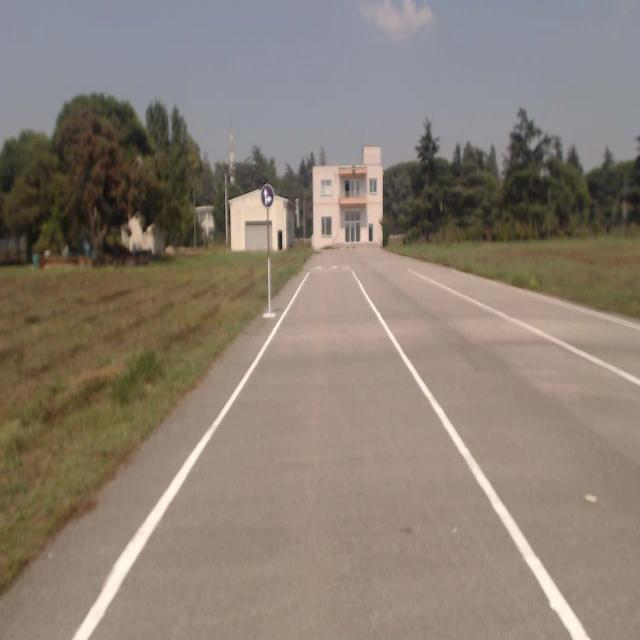ilerisag: (261, 185, 274, 208)
